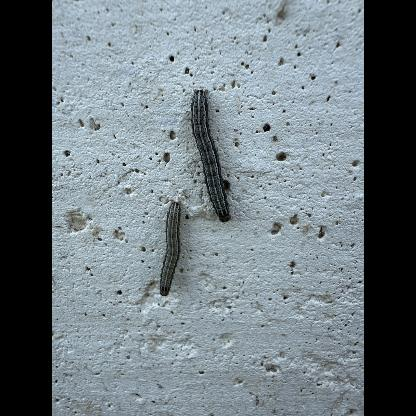Fall Armyworm Larvae: (186, 86, 234, 226), (157, 198, 185, 298)
